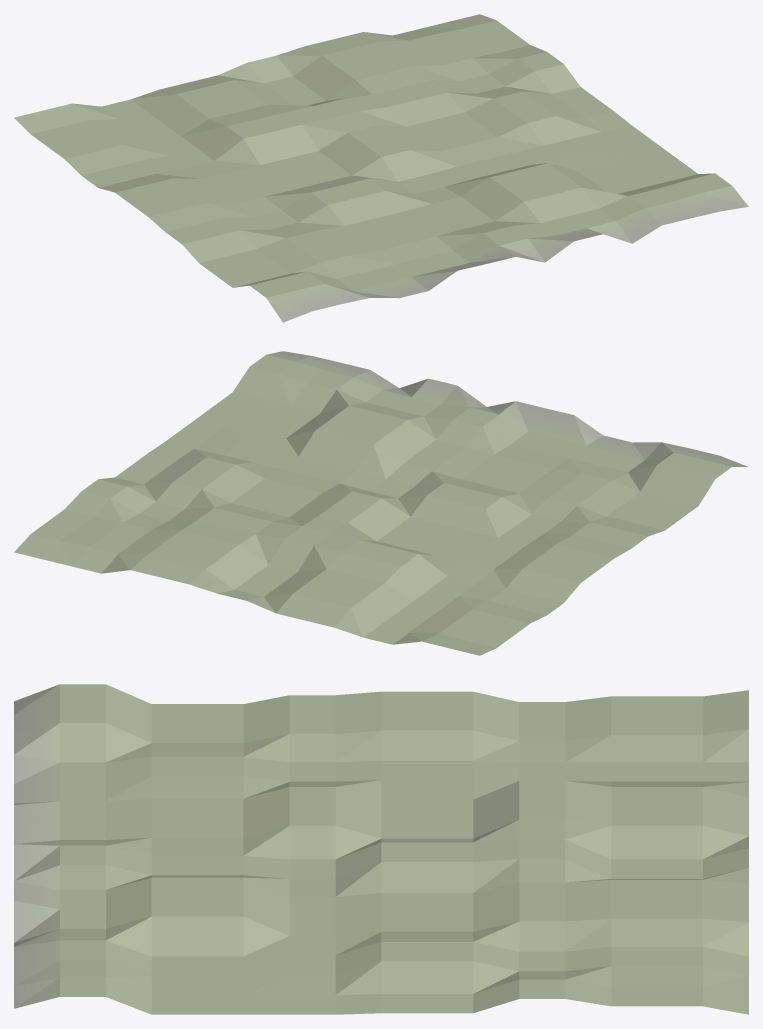
3 renders of one model, top to bottom at view 1: azimuth 30°, elevation 25°; view 2: azimuth 150°, elevation 25°; view 3: azimuth 270°, elevation 25°, orthographic. The views are drawn at different scales.
Size of the model in its own units: 32 by 1.27 by 32.
